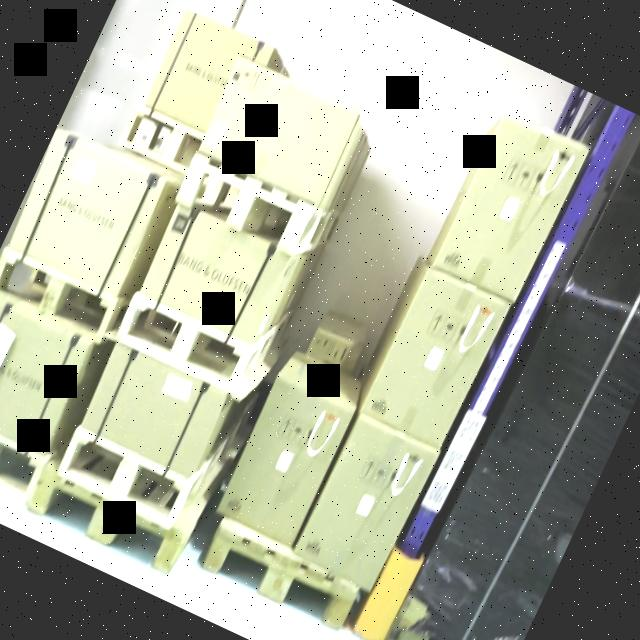box: (410, 140, 640, 640), (3, 130, 170, 297), (436, 115, 584, 301), (360, 267, 509, 449), (199, 56, 360, 206), (294, 418, 434, 590), (218, 376, 354, 544), (138, 205, 290, 344), (81, 344, 227, 476), (143, 8, 274, 135), (0, 300, 88, 451)
